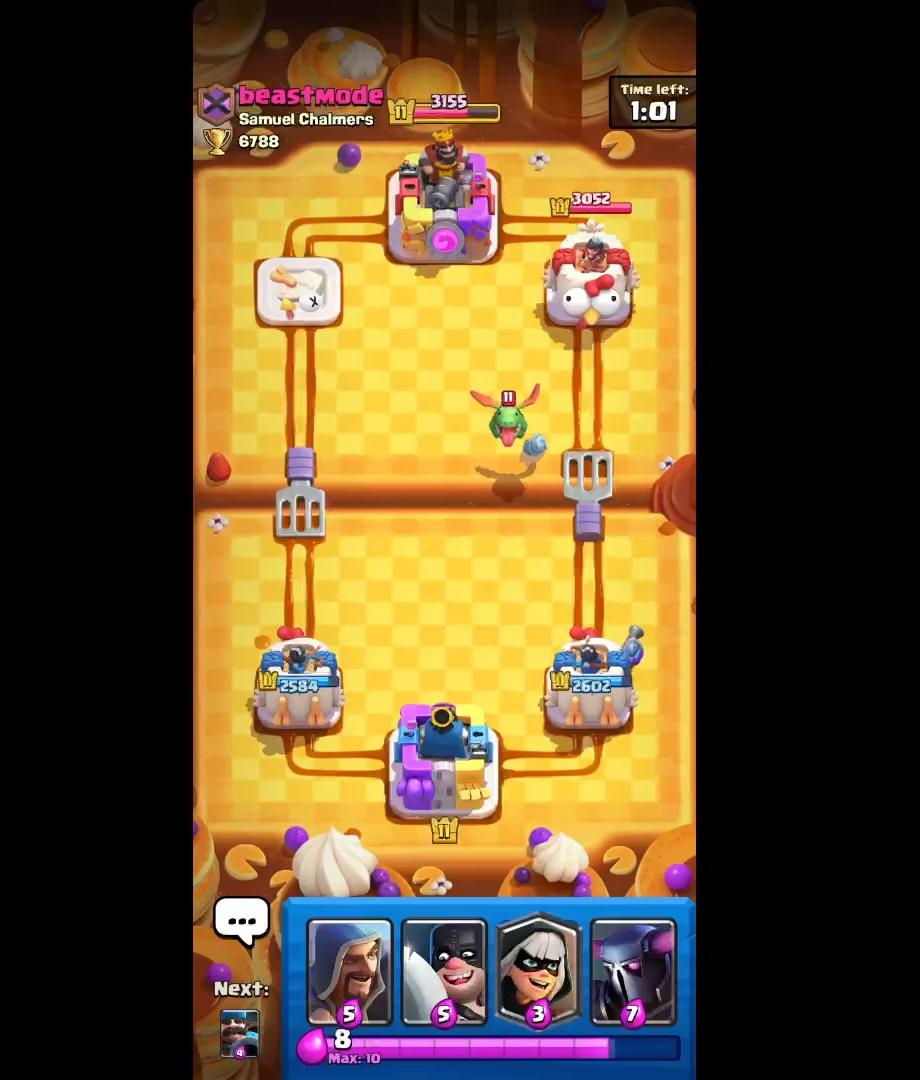Baby Dragon: (466, 386, 544, 458)
